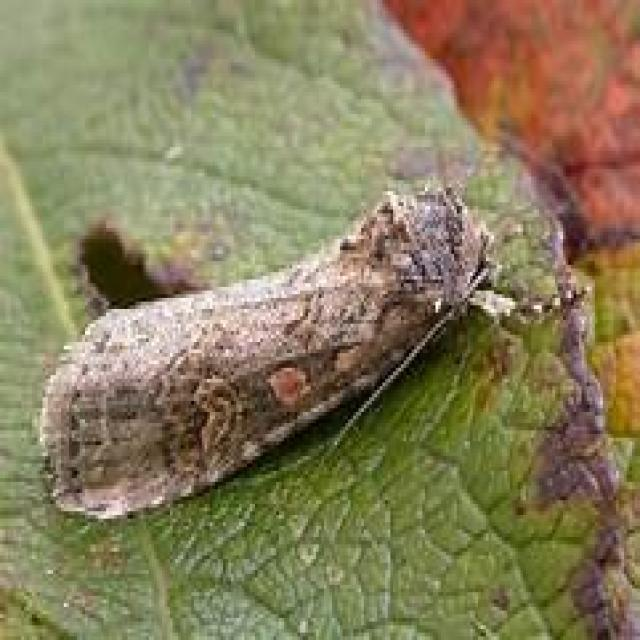BeetArmyWorm-Adult-: (27, 173, 520, 540)
